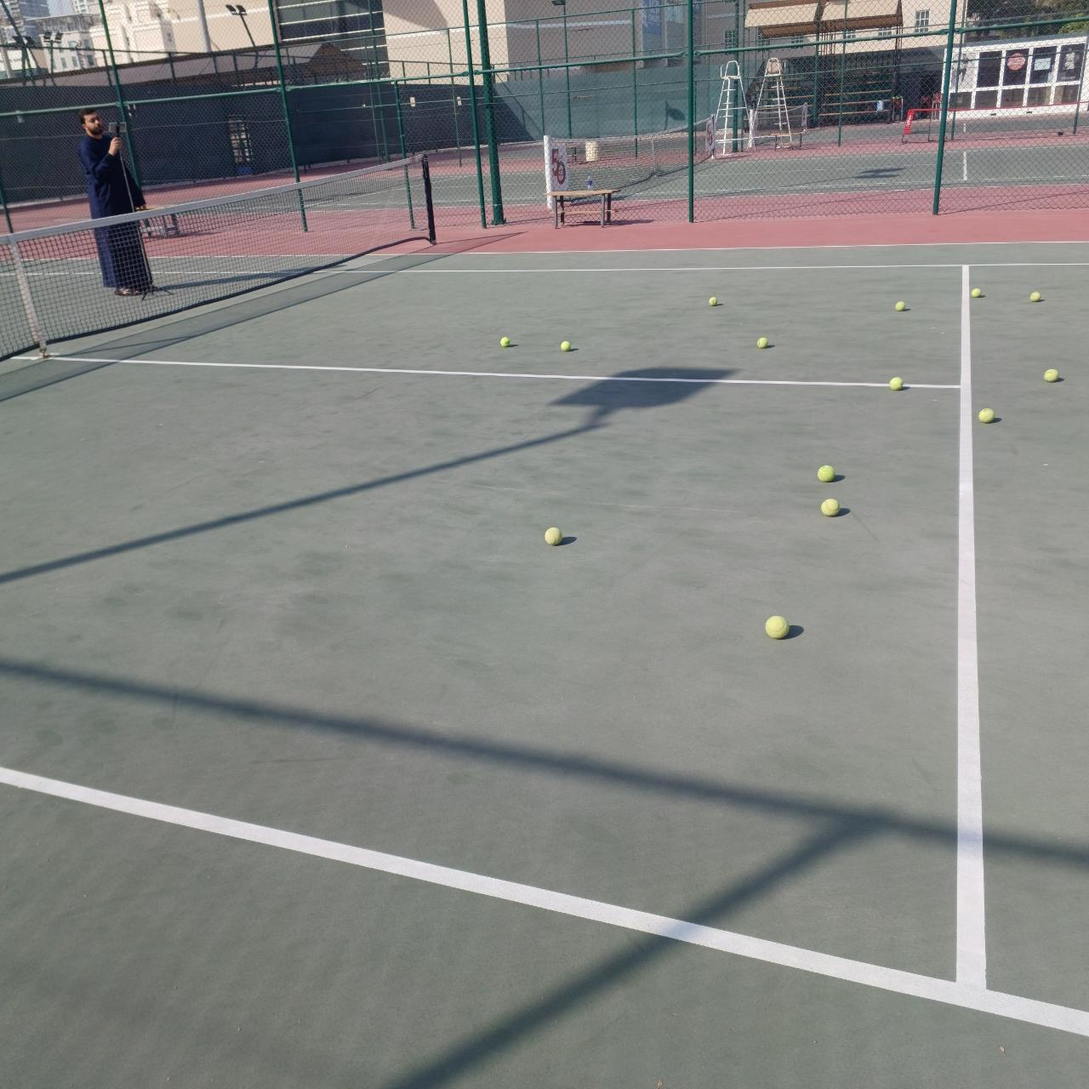tennis-ball: (763, 613, 789, 639), (819, 496, 839, 516), (543, 524, 562, 545), (816, 463, 834, 481), (976, 406, 994, 423), (887, 374, 903, 390), (1042, 367, 1058, 381), (755, 335, 768, 348), (969, 286, 983, 298), (892, 299, 906, 311), (558, 339, 571, 351), (1029, 289, 1041, 301), (499, 334, 510, 347), (706, 294, 718, 305)
